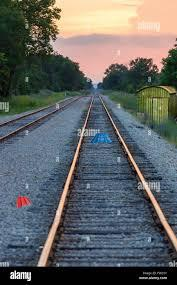Color_steel: (88, 132, 115, 148), (14, 192, 33, 212)
Green_house: (124, 75, 177, 132)
